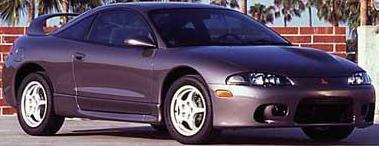front_view: (208, 45, 378, 133)
headlight: (225, 62, 311, 95)
side_glass: (64, 7, 167, 52)
